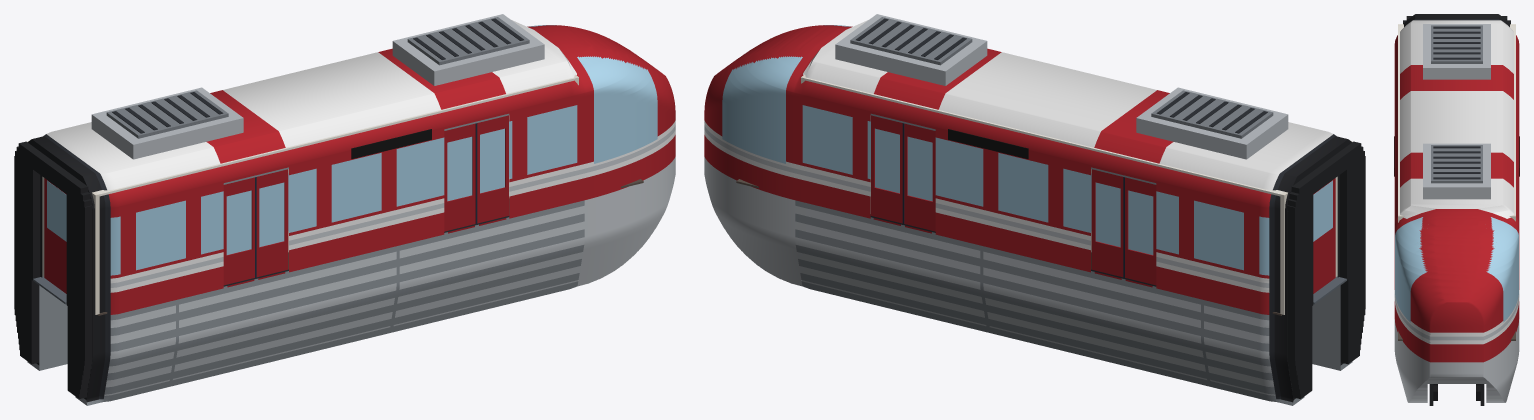
File: seattle_front.obj
3 renders of one model, left to right at view 1: azimuth 30°, elevation 25°; view 2: azimuth 150°, elevation 25°; view 3: azimuth 270°, elevation 25°, orthographic. The views are drawn at different scales.
Parts seen in each view (by area): view 1: SHELL, SHELL_roof, SHELL_diaphragm, EXTERNAL_DOOR_9_CG_DR2_TOGGLE_TL_-0.59_X, EXTERNAL_DOOR_3_CG_DR1_TOGGLE_TL_-0.59_X, EXTERNAL_DOOR_4_CG_DR1_TOGGLE_TL_0.59_X, EXTERNAL_DOOR_10_CG_DR2_TOGGLE_TL_0.59_X, CONNECTING_DOOR_1_CG_CR_TOGGLE_TL_0.98_Z, SHELL_ceiling, SHELL_end, SHELL_sign; view 2: SHELL, SHELL_roof, SHELL_diaphragm, EXTERNAL_DOOR_12_CG_DL2_TOGGLE_TL_-0.59_X, EXTERNAL_DOOR_6_CG_DL1_TOGGLE_TL_-0.59_X, EXTERNAL_DOOR_7_CG_DL1_TOGGLE_TL_0.59_X, EXTERNAL_DOOR_13_CG_DL2_TOGGLE_TL_0.59_X, CONNECTING_DOOR_1_CG_CR_TOGGLE_TL_0.98_Z, SHELL_ceiling, SHELL_sign, SHELL_end; view 3: SHELL, SHELL_roof, SHELL_ceiling, BOGEY_FRONT.
Part boxes in pixels (x1,y1,x2,y2): SHELL: (27,20,675,405); SHELL_roof: (91,14,544,159); SHELL_diaphragm: (14,141,92,398); EXTERNAL_DOOR_9_CG_DR2_TOGGLE_TL_-0.59_X: (444,123,477,231); EXTERNAL_DOOR_3_CG_DR1_TOGGLE_TL_-0.59_X: (223,177,256,285); EXTERNAL_DOOR_4_CG_DR1_TOGGLE_TL_0.59_X: (256,169,288,277); EXTERNAL_DOOR_10_CG_DR2_TOGGLE_TL_0.59_X: (477,115,508,223); CONNECTING_DOOR_1_CG_CR_TOGGLE_TL_0.98_Z: (44,178,66,293); SHELL_ceiling: (27,77,574,196); SHELL_end: (42,176,99,314); SHELL_sign: (351,129,431,158); SHELL: (704,20,1352,405); SHELL_roof: (835,14,1288,159); SHELL_diaphragm: (1287,141,1365,398); EXTERNAL_DOOR_12_CG_DL2_TOGGLE_TL_-0.59_X: (902,123,935,231); EXTERNAL_DOOR_6_CG_DL1_TOGGLE_TL_-0.59_X: (1123,177,1156,285); EXTERNAL_DOOR_7_CG_DL1_TOGGLE_TL_0.59_X: (1091,169,1123,277); EXTERNAL_DOOR_13_CG_DL2_TOGGLE_TL_0.59_X: (871,115,902,223); CONNECTING_DOOR_1_CG_CR_TOGGLE_TL_0.98_Z: (1313,178,1335,293); SHELL_ceiling: (805,77,1352,196); SHELL_sign: (948,129,1028,158); SHELL_end: (1280,176,1337,314); SHELL: (1394,14,1519,402); SHELL_roof: (1423,24,1490,199); SHELL_ceiling: (1398,25,1515,214); BOGEY_FRONT: (1429,384,1484,405).
Bounding box in the file's own units: 12.16 × 4.66 × 2.66.
1 material, 1 textured.
